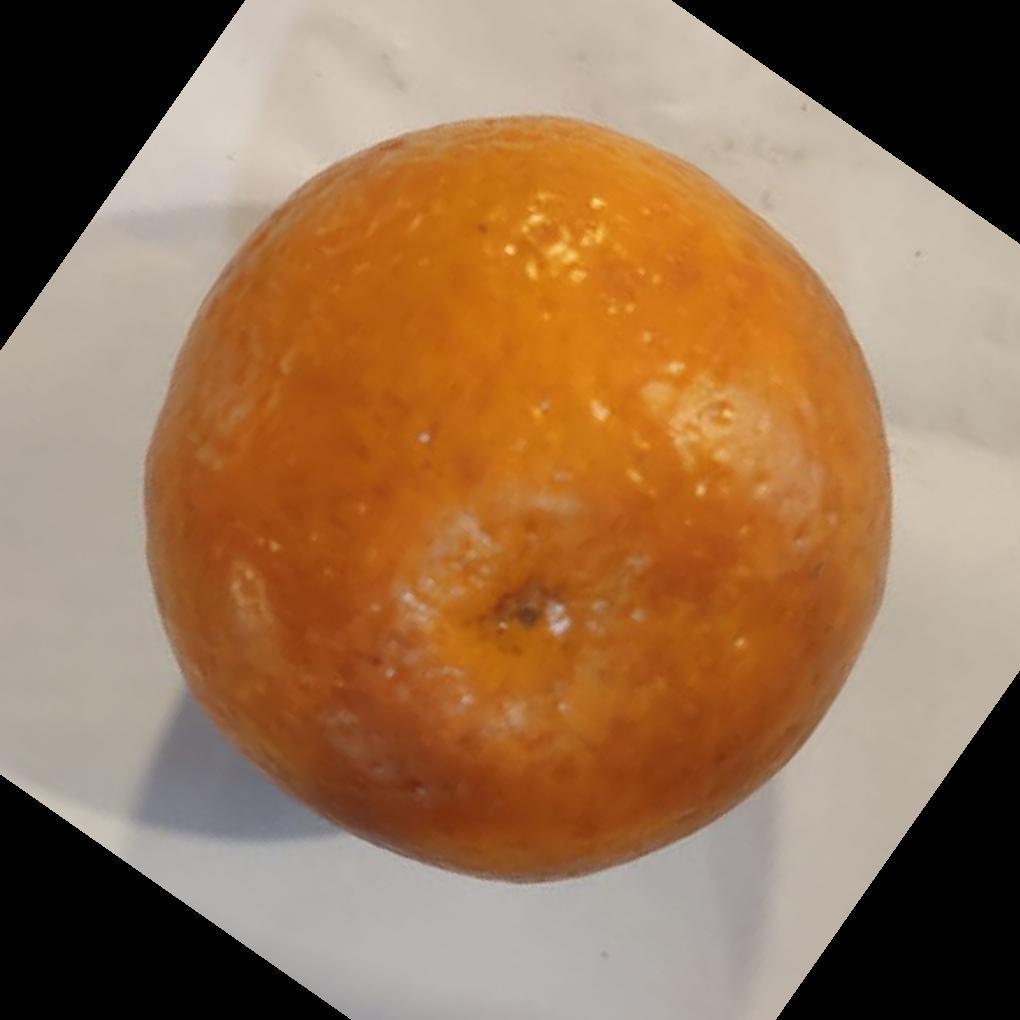FreshOrange: (139, 117, 893, 888)
